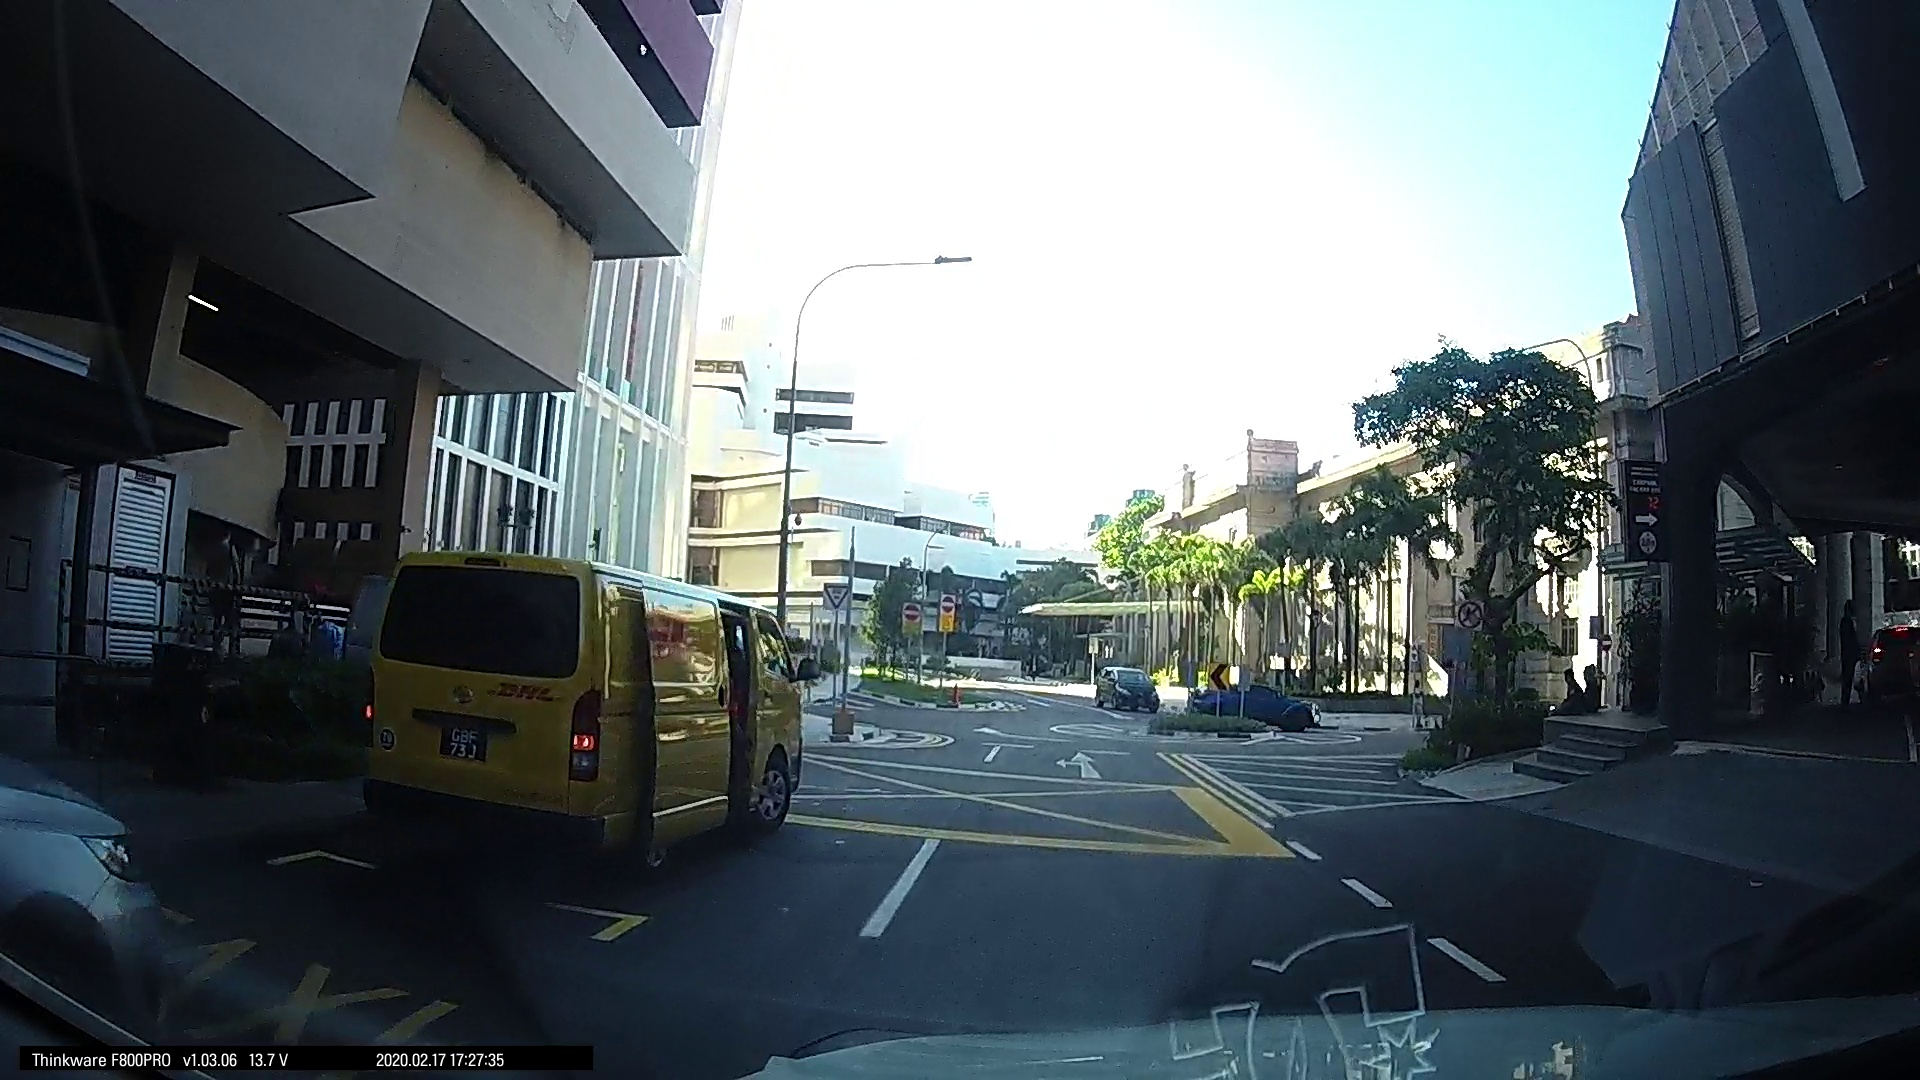Light Vehicle: (345, 554, 800, 868), (1095, 662, 1162, 711)
